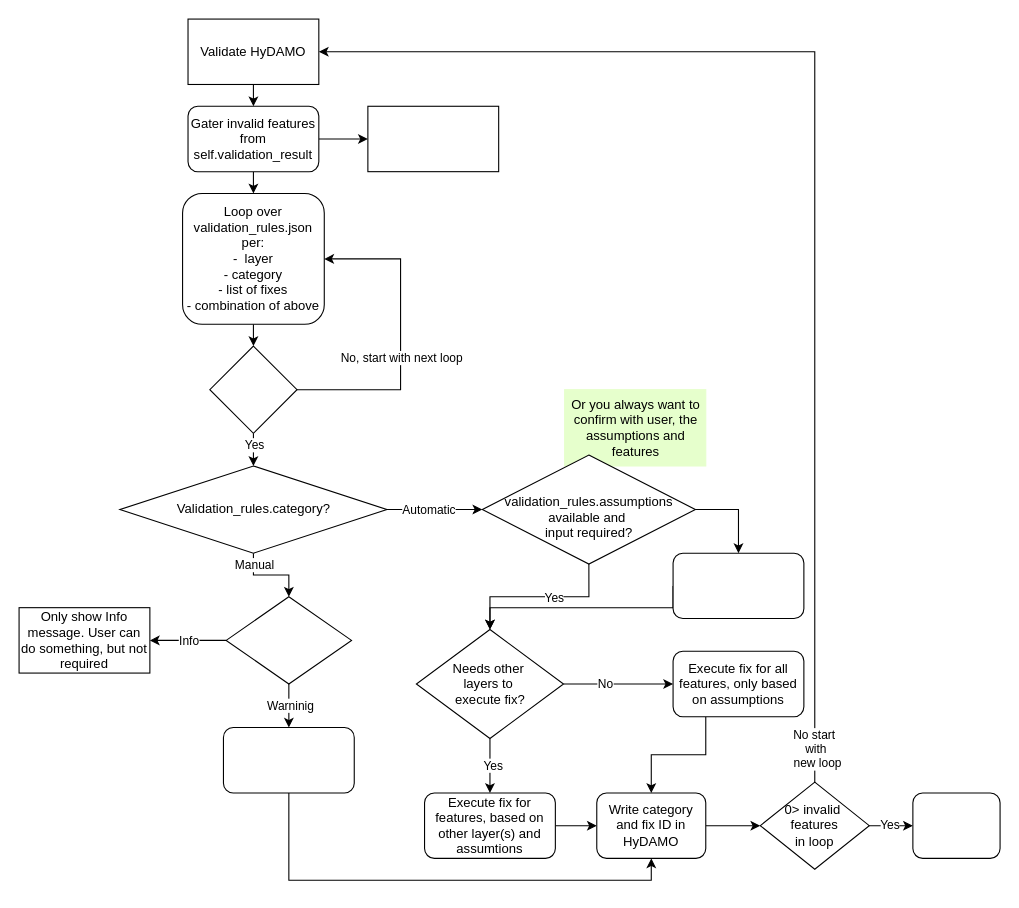
Some shapes in this 1019 by 908 pixel diagram are drawn without their labels. Each missing label, with the centre of its shape:
0> invalid features: point 253,389
Ask user to fill in values for the assumptions: point 738,585
Continue: point 956,825
Info or Warning?: point 288,640
Show summary of invalid features to user: point 433,138
User have to fix feature manually: point 288,759
